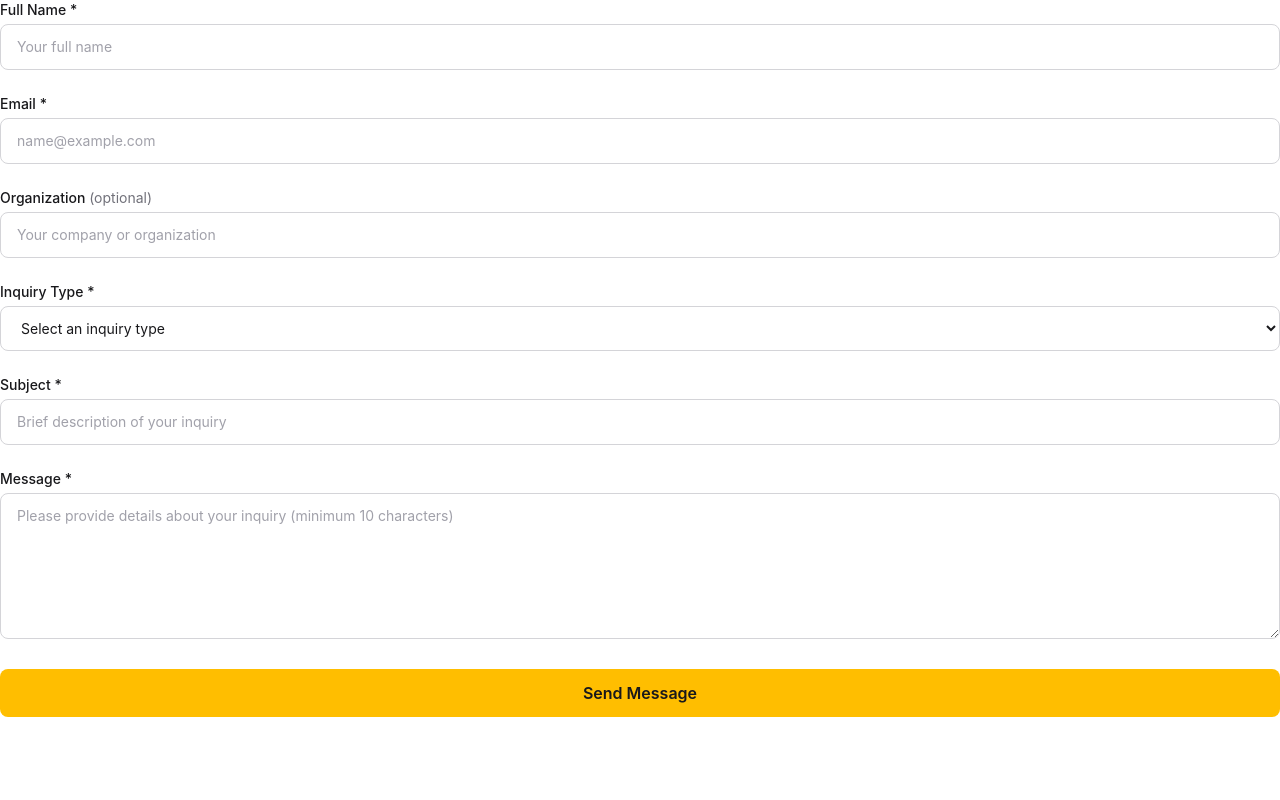
submits to the contact API and shows the success modal
Type "Ada Lovelace" into the field labelled "Full Name *" at (640, 47), box [0, 24, 1279, 70]
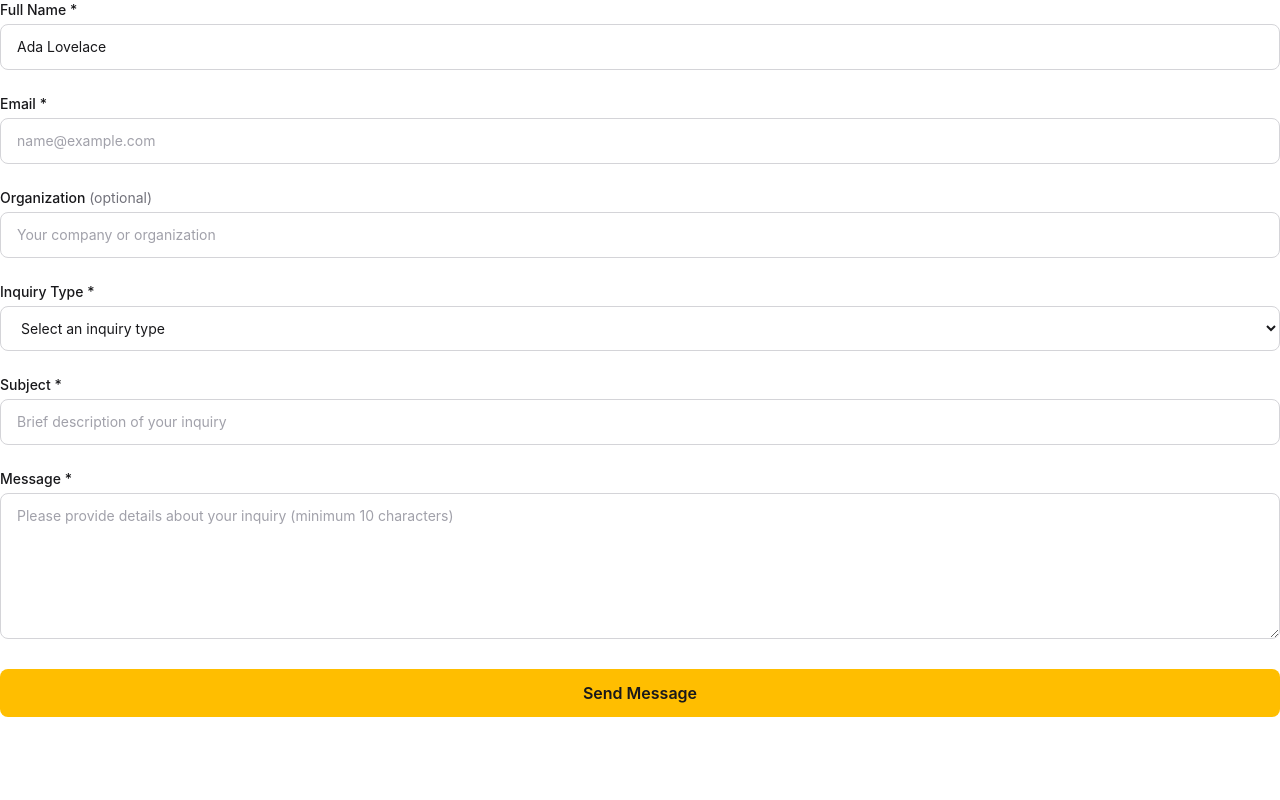
Type "ada@example.com" into the field labelled "Email *" at (640, 141), box [0, 118, 1279, 164]
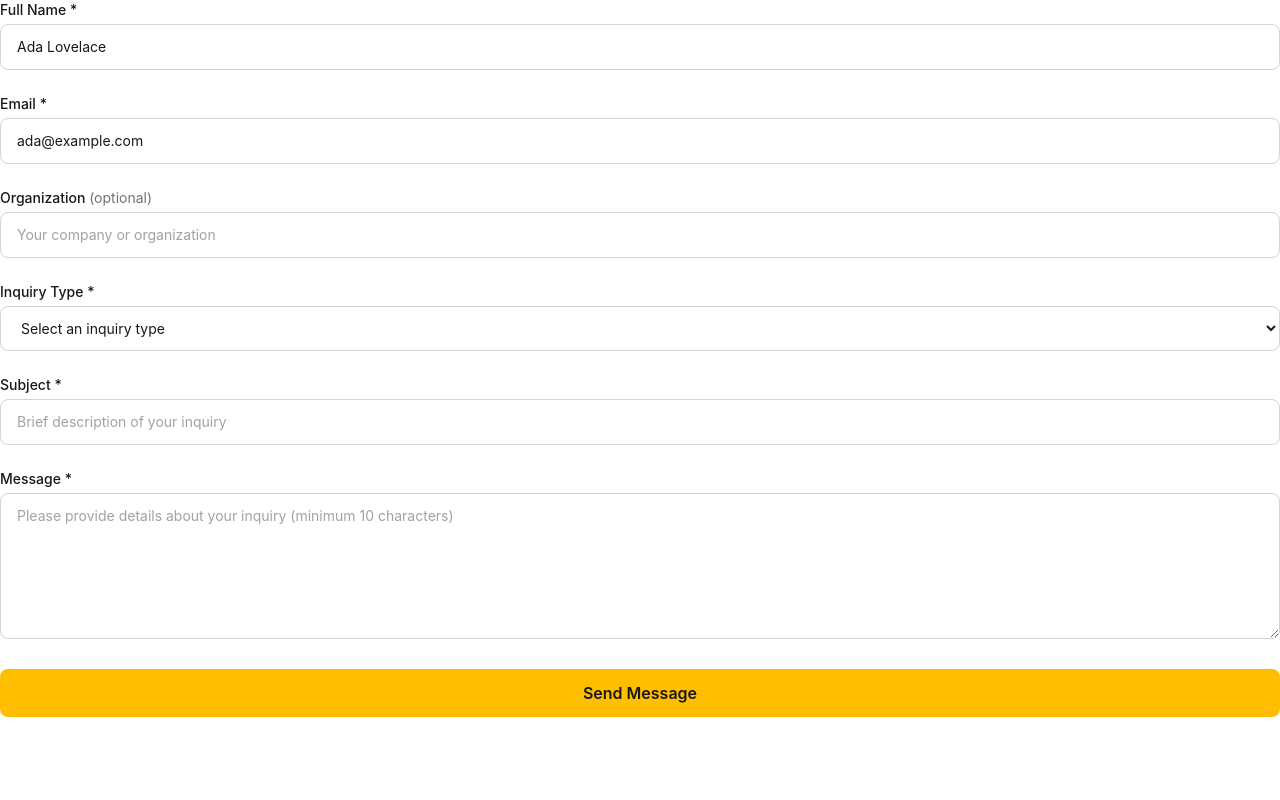
Select "General Inquiry" in the dropdown labelled "Inquiry Type *" at (640, 328), box [0, 306, 1279, 351]
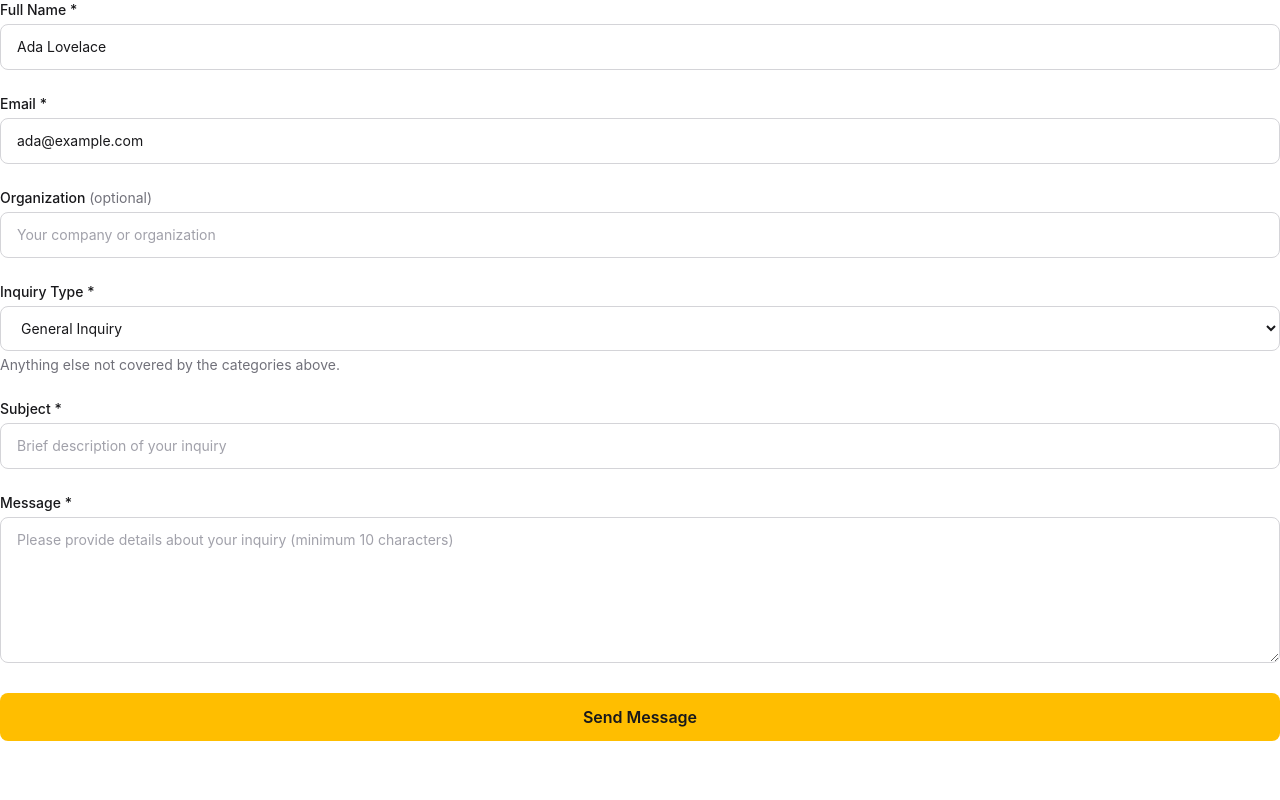
Type "Hi" into the field labelled "Subject *" at (640, 446), box [0, 423, 1279, 469]
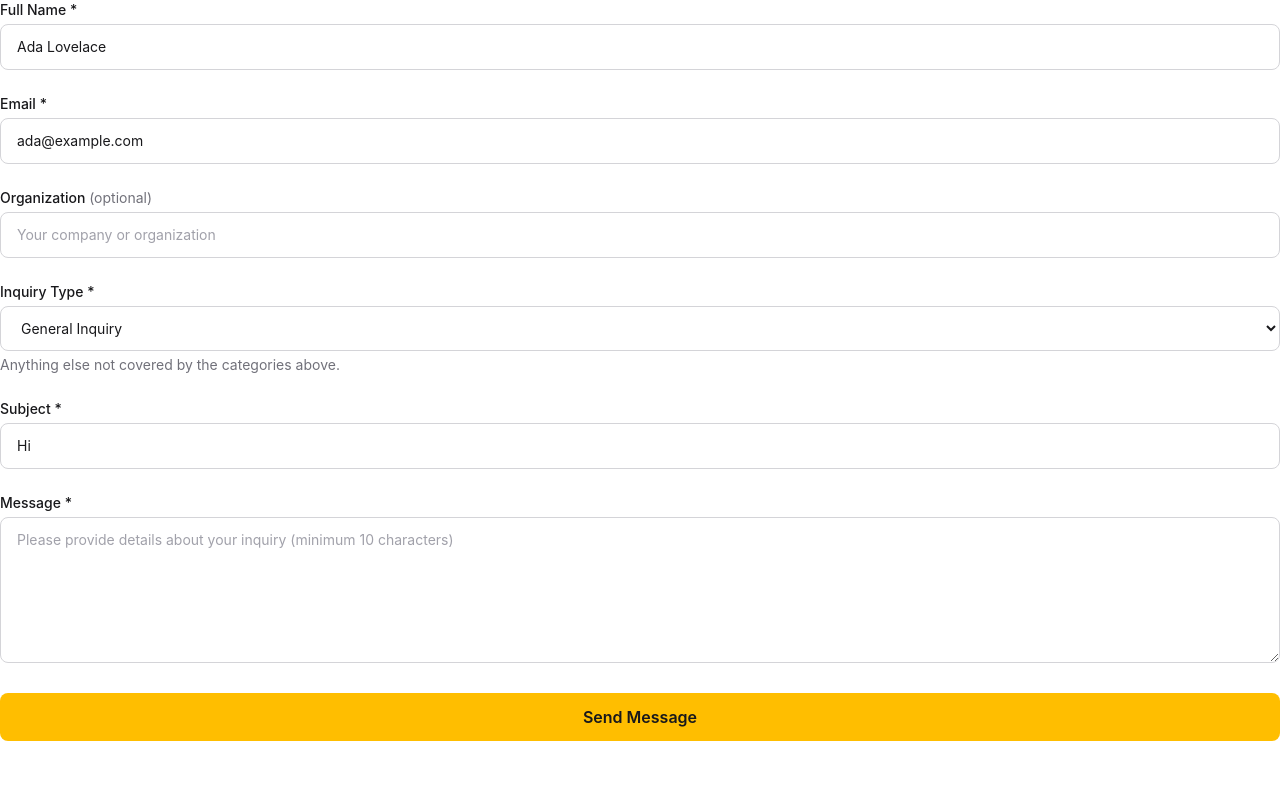
Replace the text in the text box labelled "Message *" with "This is a long enough message." at (640, 590), box [0, 517, 1279, 663]
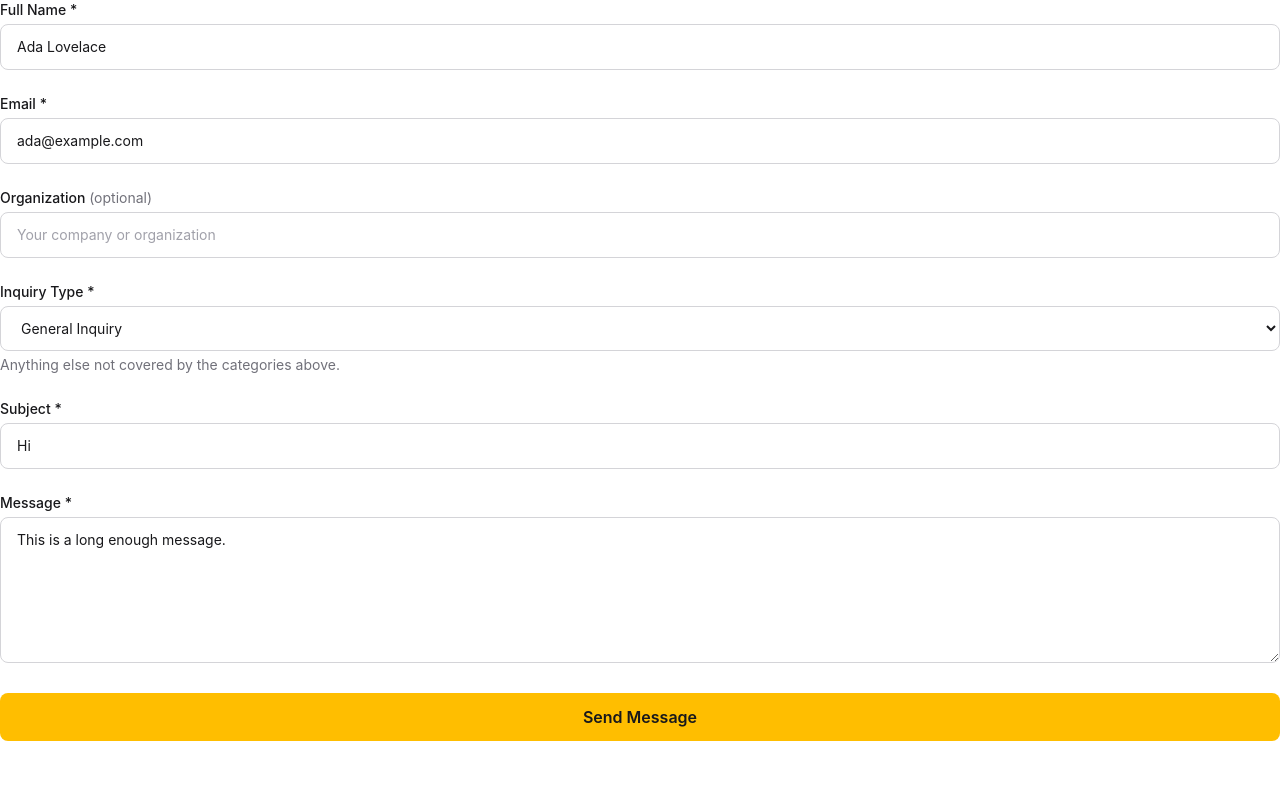
Click the button "Send Message" at (640, 717), box [0, 693, 1279, 741]
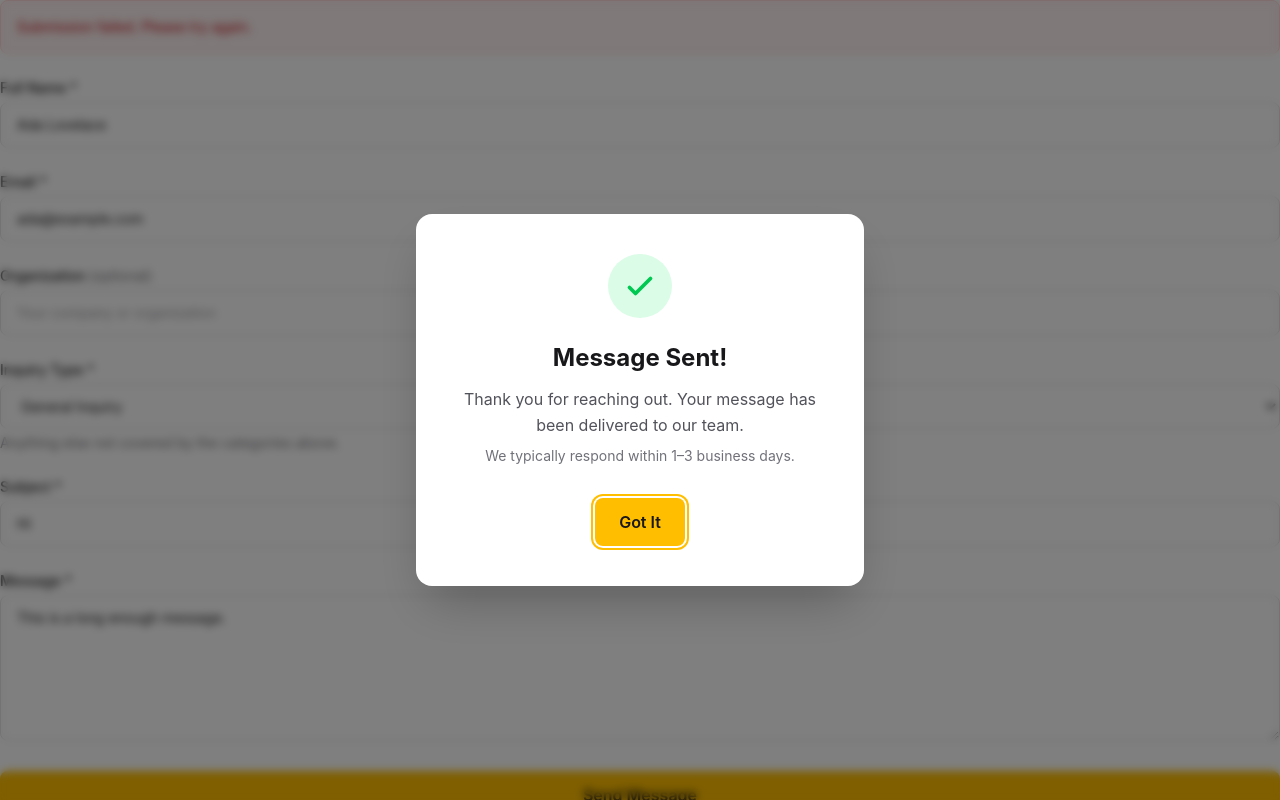
Now the heading "Message Sent!" is shown, box [553, 343, 727, 372]
